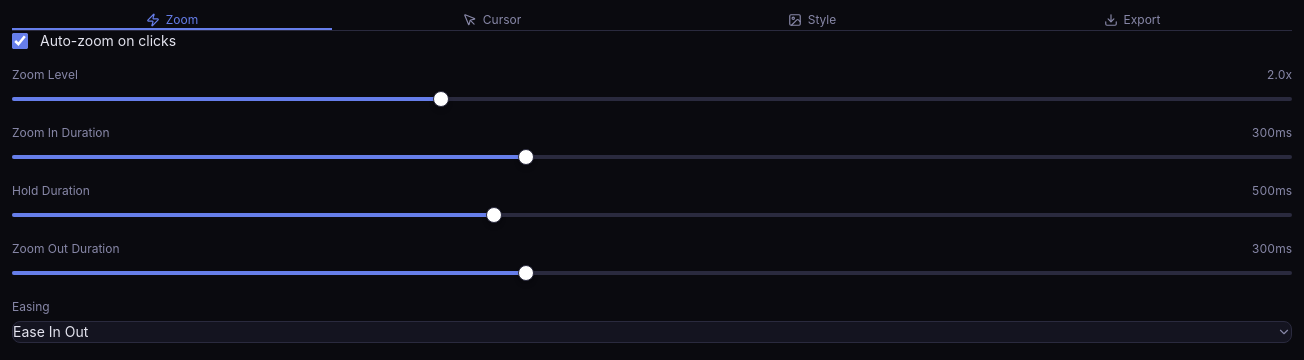
Test: EffectsPanel › disabling zoom hides the zoom sliders
This screenshot has width=1304, height=360.
Expected: the text "Zoom Level" is shown, [12,67,78,83]
Uncheck the auto-zoom checkbox
Step 1. Click the checkbox → (20,41), box [12,33,28,49]
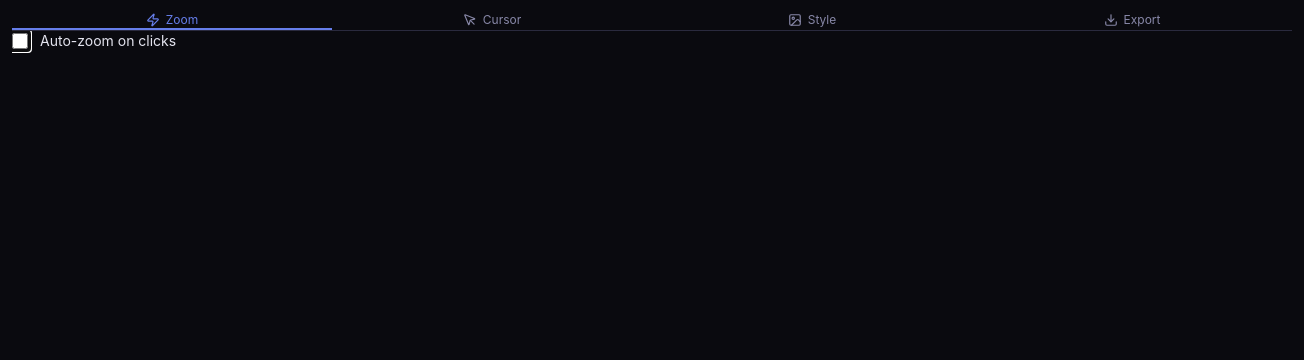
Result: the text "Zoom Level" is gone
